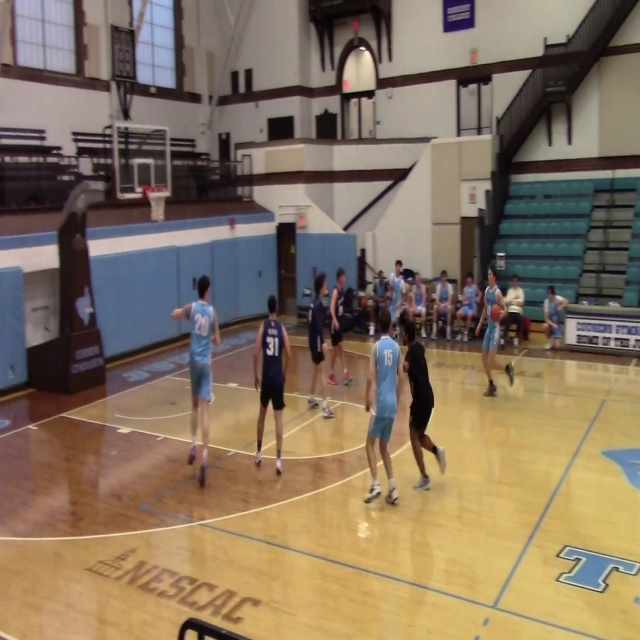Basketball: (490, 304, 503, 321), (359, 297, 368, 307)
